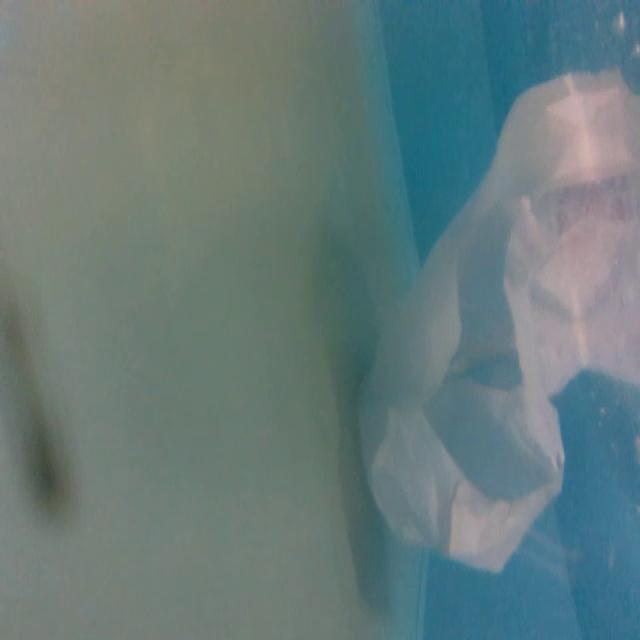plastic bags: (352, 60, 640, 584)
